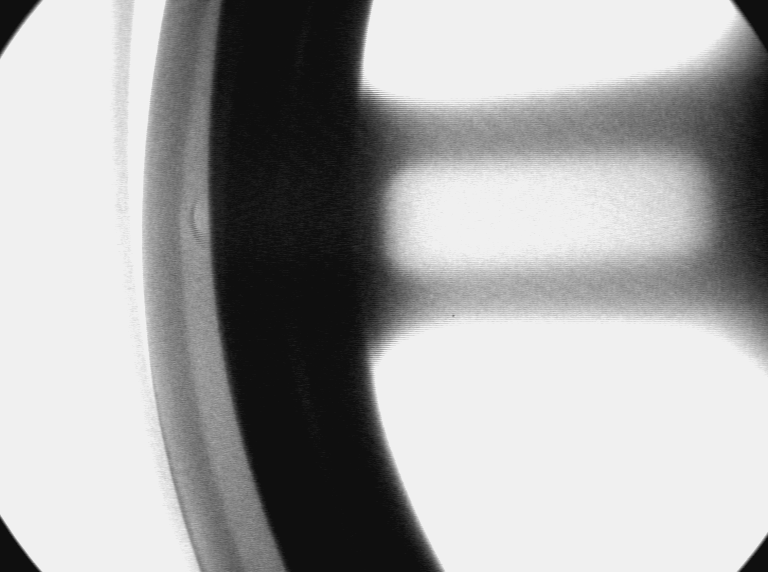defect: (187, 191, 217, 249)
